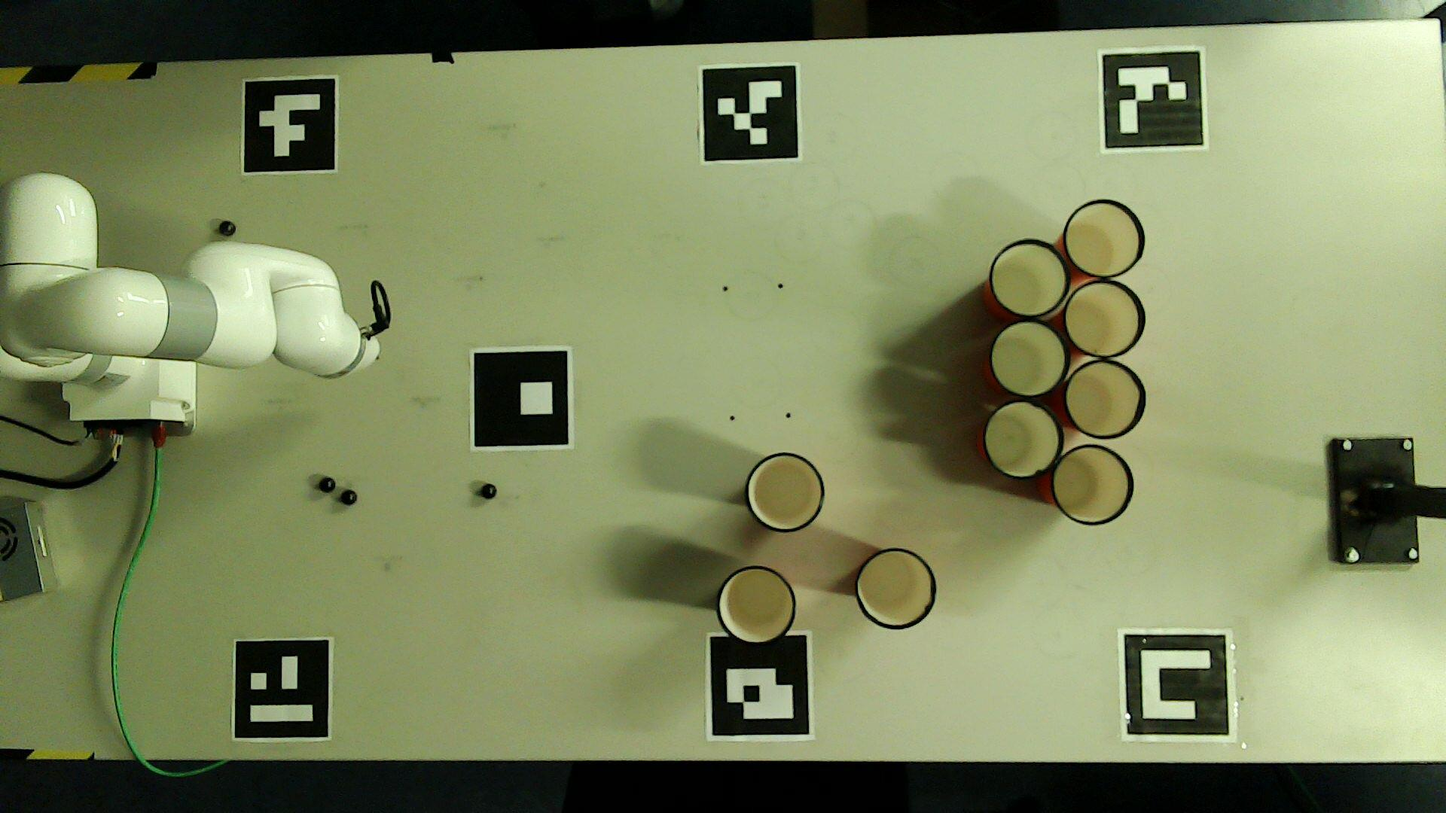ball: (481, 484, 495, 498), (219, 222, 234, 235), (321, 478, 334, 491), (342, 491, 355, 503)
cup: (856, 549, 935, 629), (746, 452, 823, 531), (717, 565, 795, 642), (990, 240, 1068, 317), (1053, 446, 1131, 523), (1066, 360, 1143, 437), (1065, 201, 1143, 277), (985, 402, 1061, 477), (1066, 283, 1143, 357), (992, 322, 1068, 396)
